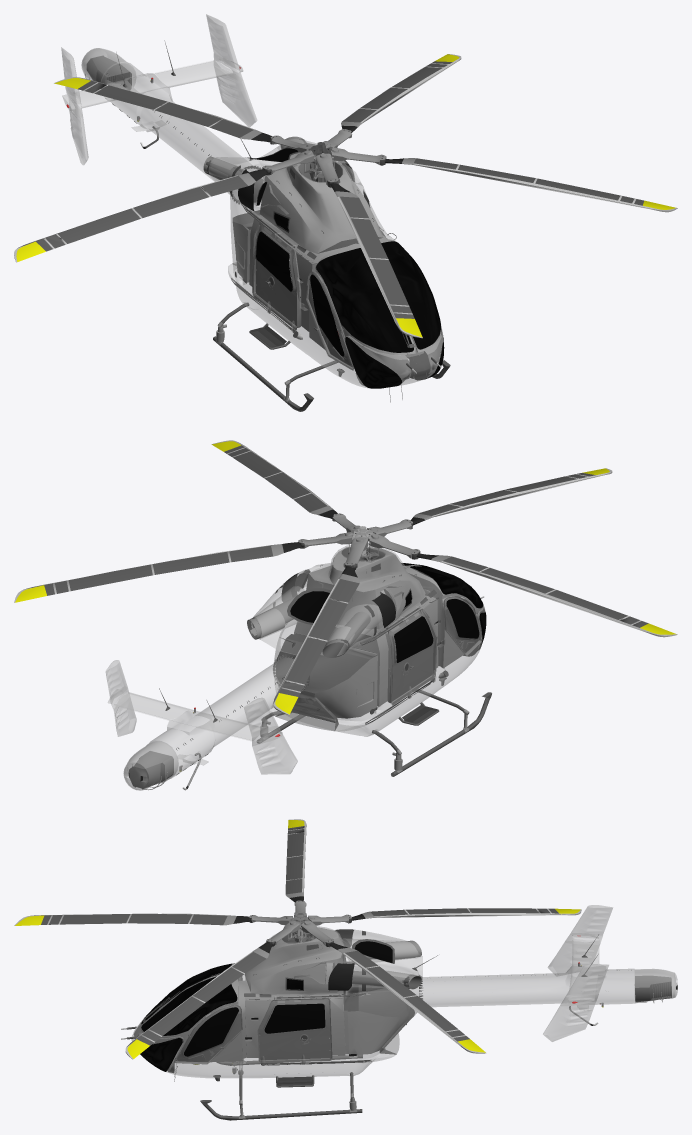
File: NewHelicopter_original.fbx
The picture shows the model from 3 angles, top to bottom: view 1: azimuth 30°, elevation 25°; view 2: azimuth 150°, elevation 25°; view 3: azimuth 270°, elevation 25°; orthographic projection. The views are drawn at different scales.
Visible parts, largest first — view 1: object.001, rotor, object.013, object.006, object.012, Right_door, object.019; view 2: object.001, rotor, object.013, object.012, Right_door, object.006, object.016, object.027, object.019, object.008; view 3: object.001, object.013, rotor, Left_door, object.006, object.012, object.019, object.016, object.008.
Boxes of the visible parts, <box> form: object.001: <box>61,14,442,388</box>; rotor: <box>14,54,677,338</box>; object.013: <box>203,136,443,402</box>; object.006: <box>310,241,444,388</box>; object.012: <box>86,40,450,411</box>; Right_door: <box>252,223,300,332</box>; object.019: <box>107,72,348,309</box>; object.001: <box>105,545,485,790</box>; rotor: <box>14,440,677,714</box>; object.013: <box>247,546,485,776</box>; object.012: <box>128,557,491,788</box>; Right_door: <box>387,606,437,705</box>; object.006: <box>401,563,486,646</box>; object.016: <box>247,585,412,657</box>; object.027: <box>275,697,335,730</box>; object.019: <box>129,573,453,789</box>; object.008: <box>290,591,329,622</box>; object.001: <box>131,905,677,1078</box>; object.013: <box>133,927,421,1118</box>; rotor: <box>14,819,581,1059</box>; Left_door: <box>257,995,332,1065</box>; object.006: <box>140,963,238,1071</box>; object.012: <box>127,934,671,1120</box>; object.019: <box>233,929,677,1073</box>; object.016: <box>160,930,421,1038</box>; object.008: <box>354,941,392,962</box>.
Size of the model in its own units: 1204 by 442 by 1484.
